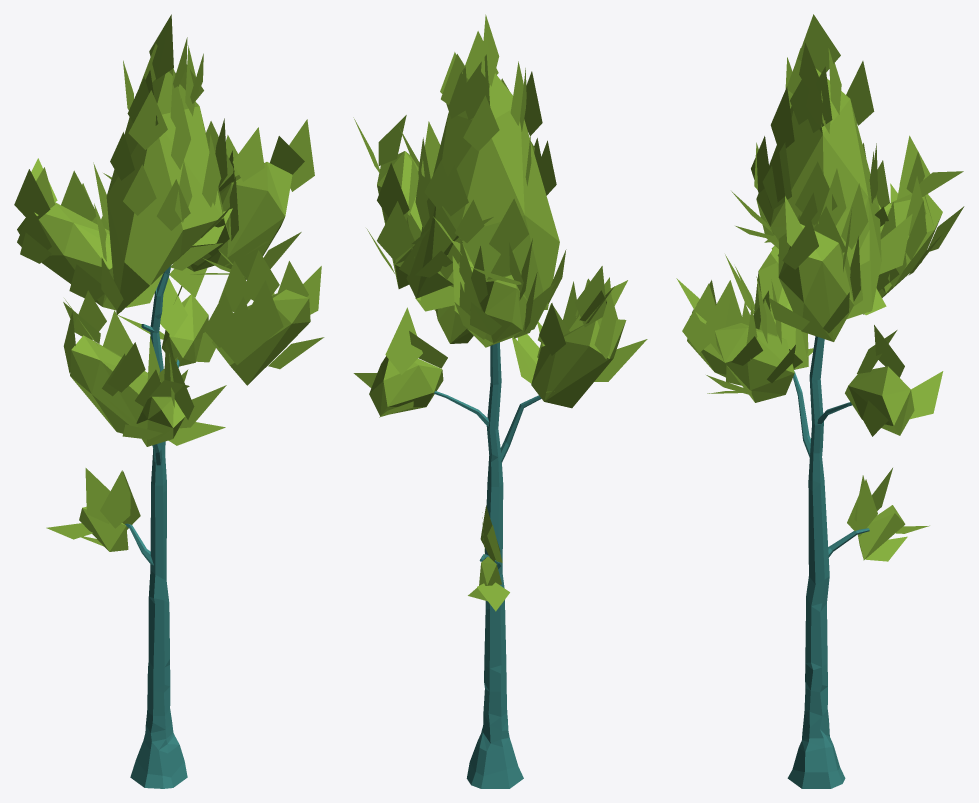
Rendered from SM_Tree_Birch_Young_A.fbx.
3 renders of one model, left to right at view 1: azimuth 30°, elevation 25°; view 2: azimuth 150°, elevation 25°; view 3: azimuth 270°, elevation 25°, orthographic.
Visible parts, largest first — view 1: tree-birch-young-a; view 2: tree-birch-young-a; view 3: tree-birch-young-a.
Boxes of the visible parts, box(x1,y1,x2,y2) form: tree-birch-young-a: box(14, 14, 324, 788); tree-birch-young-a: box(353, 14, 647, 788); tree-birch-young-a: box(676, 14, 964, 788).
Size of the model in its own units: 1.89 by 5.39 by 1.83.
